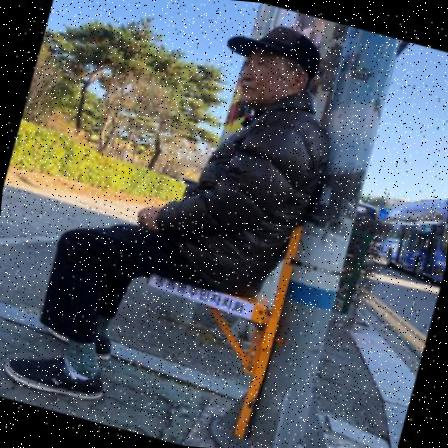silver: (0, 0, 364, 447)
